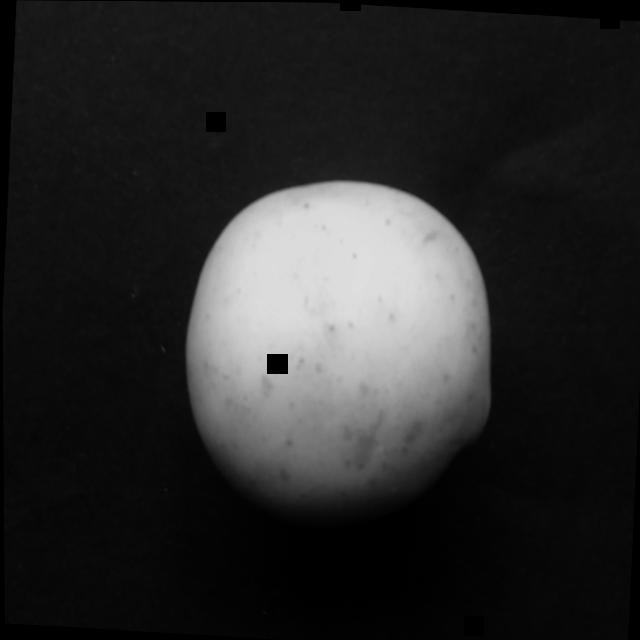Potato: (134, 133, 530, 565)
